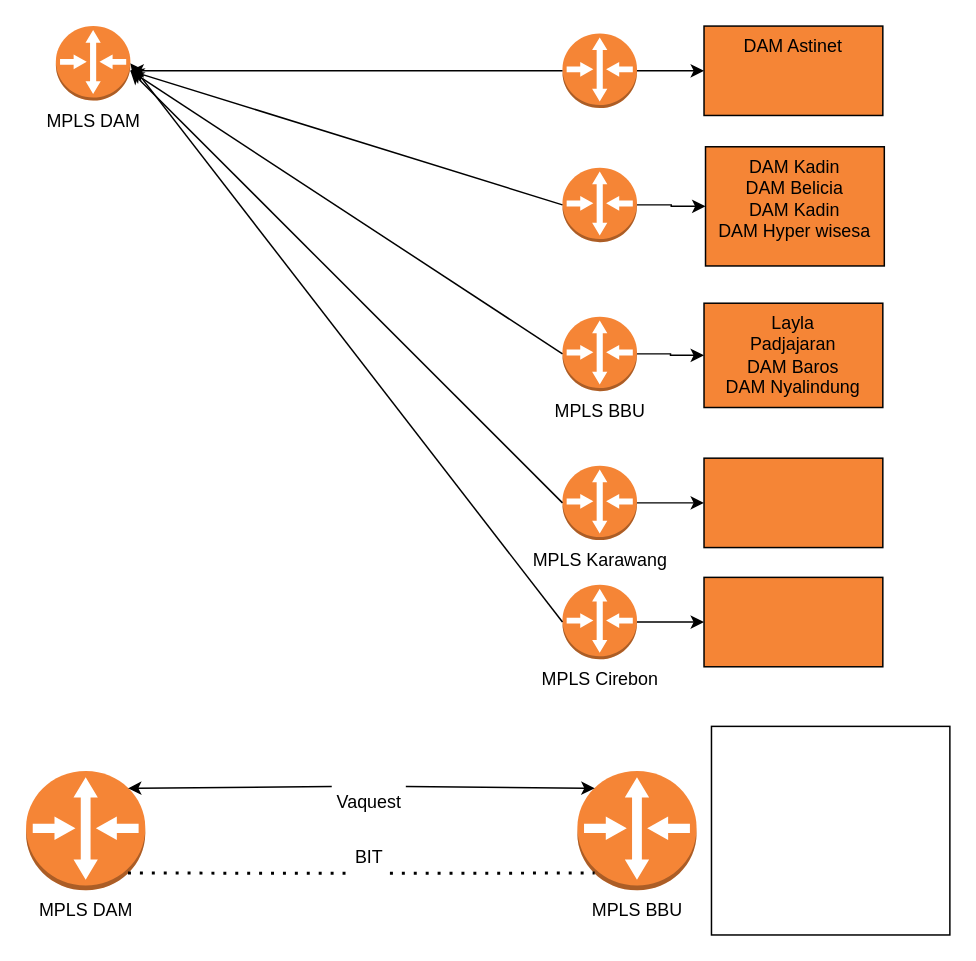
This 976x961 diagram has some shape labels left out. Here are the shapes that lost their labels. From the top down, the centre of each, then its label:
the point at 599,70: MPLS Mulya
the point at 599,204: MPLS CSF
the point at 793,502: DAM Karawang Karawang Wirelles
the point at 793,621: Link DAM Cirebon ILO Wifi DAM CRB
the point at 830,830: Main link Vaquest semua di lewatkan Vaquest kec ke Cirebon
